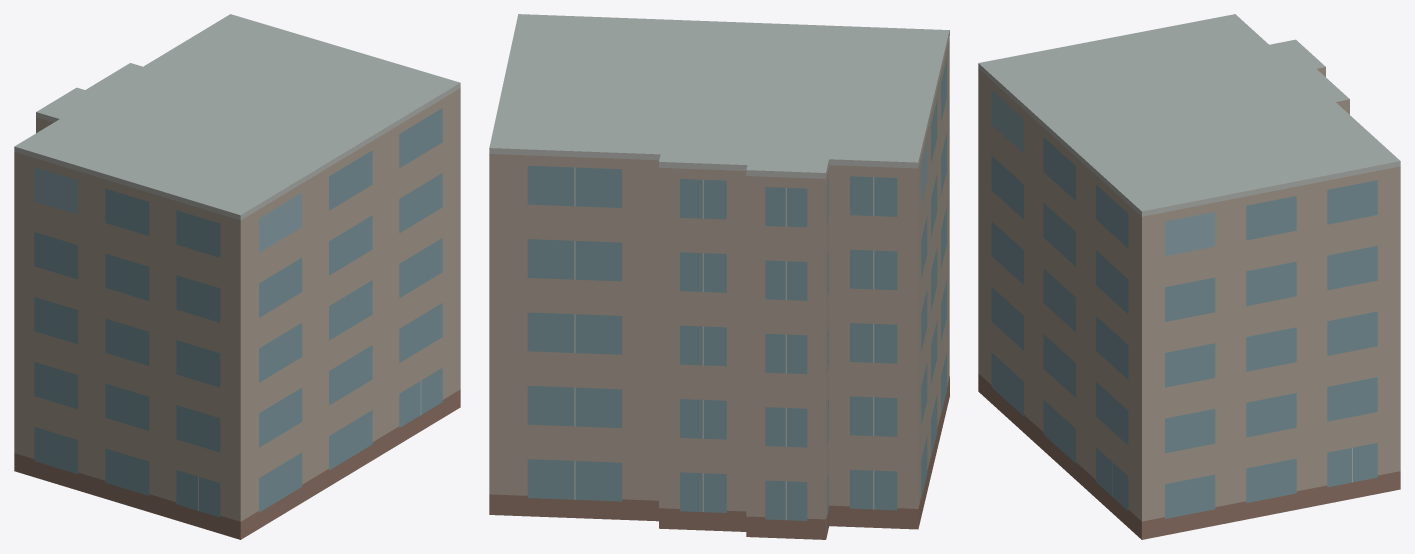
File: survey-upis-32762988.glb
3 renders of one model, left to right at view 1: azimuth 30°, elevation 25°; view 2: azimuth 150°, elevation 25°; view 3: azimuth 270°, elevation 25°, orthographic. The views are drawn at different scales.
Parts seen in each view (by area): view 1: survey-upis-32762988.tmp; view 2: survey-upis-32762988.tmp; view 3: survey-upis-32762988.tmp.
Part boxes in pixels (x1,y1,x2,y2): survey-upis-32762988.tmp: (14, 14, 460, 539); survey-upis-32762988.tmp: (489, 14, 949, 539); survey-upis-32762988.tmp: (978, 14, 1400, 539).
Bounding box in the file's own units: 19.68 × 15.25 × 17.79.
